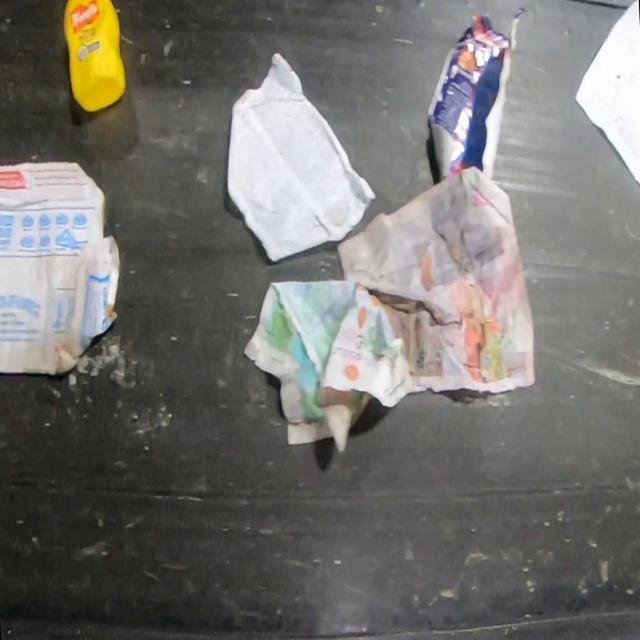cardboard: (0, 161, 121, 377)
rigid_plastic: (62, 0, 129, 111)
